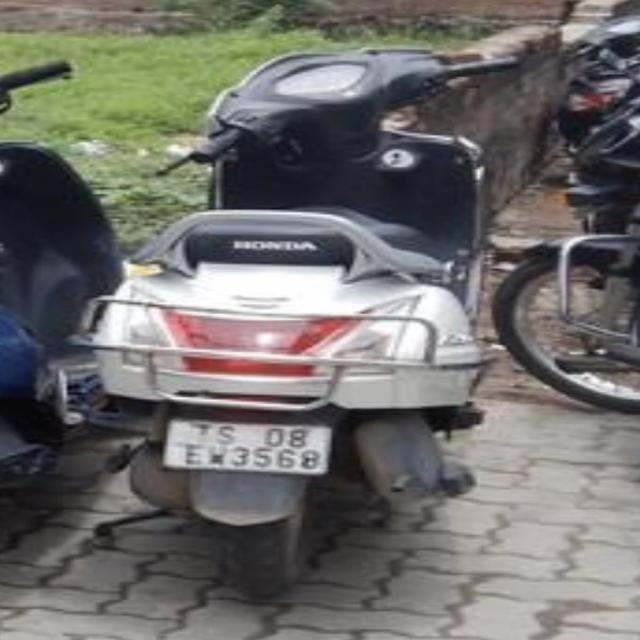number plate: (158, 414, 335, 476)
